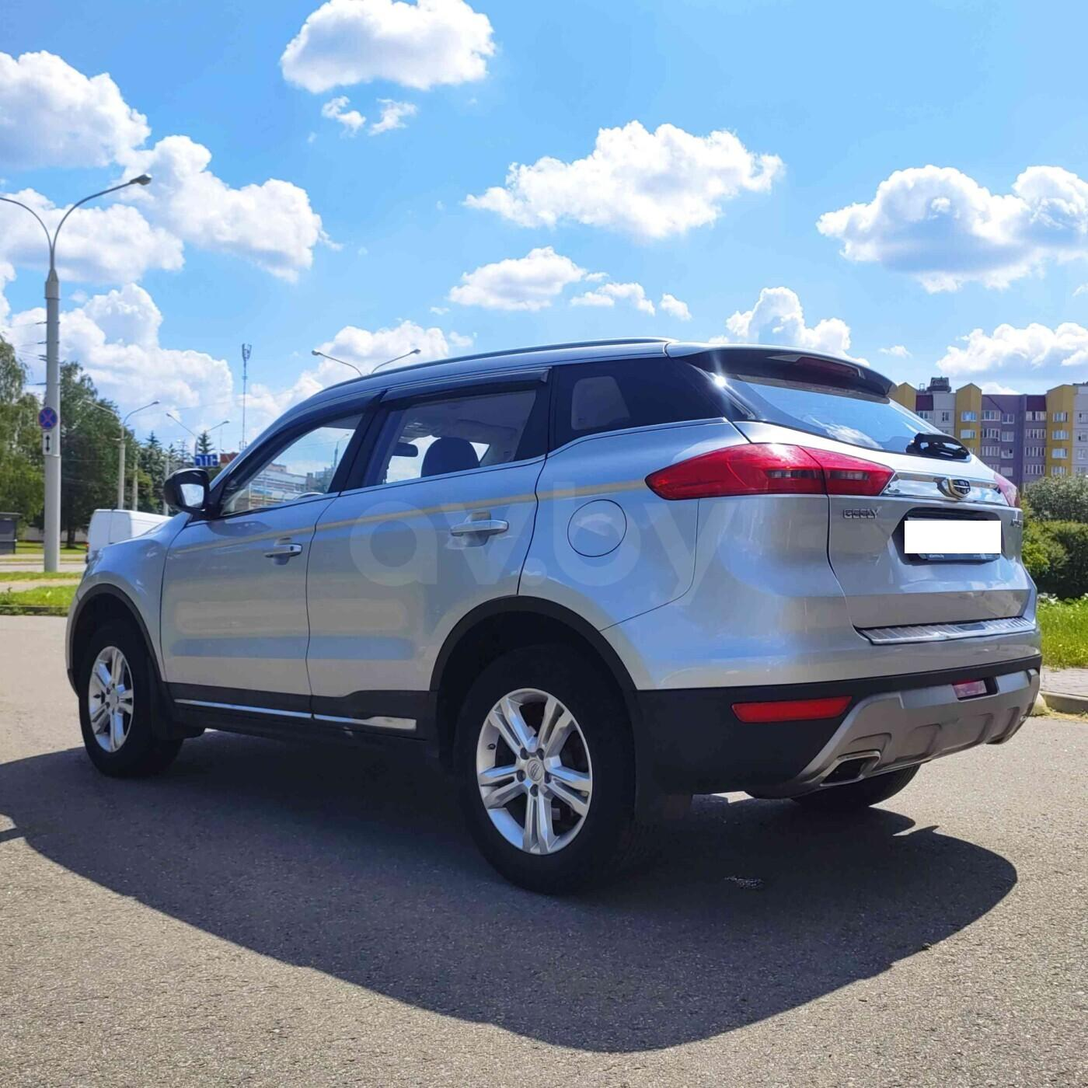Atlas_2016-2023: (62, 336, 1055, 906)
